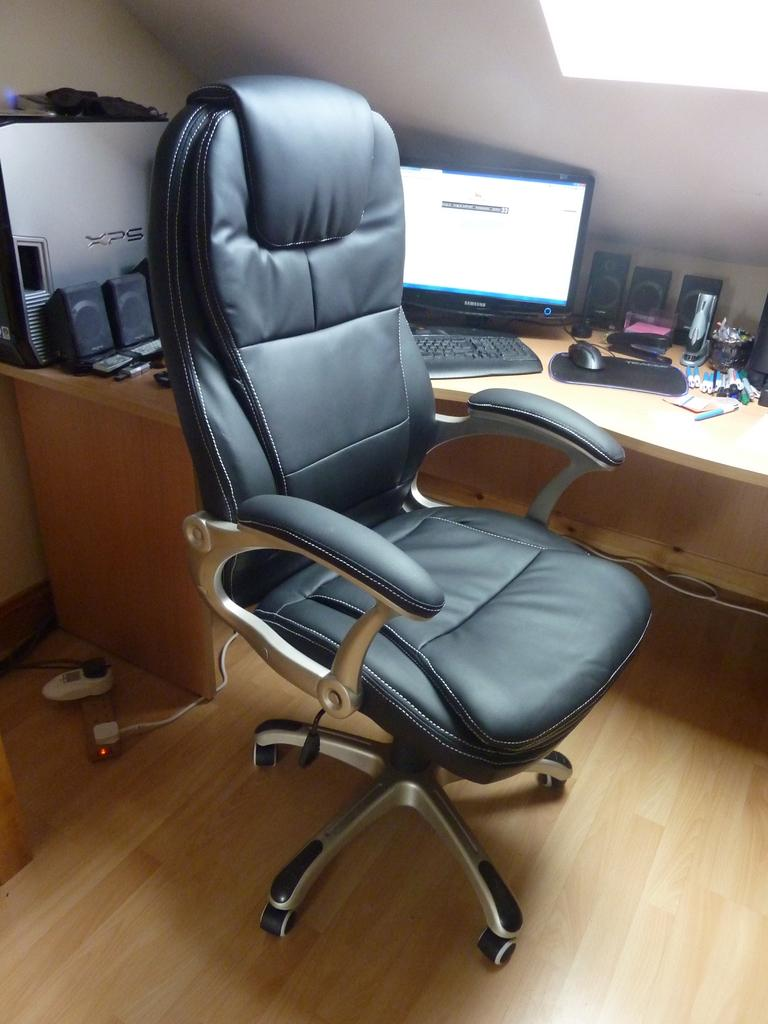Chair: (148, 76, 655, 968)
